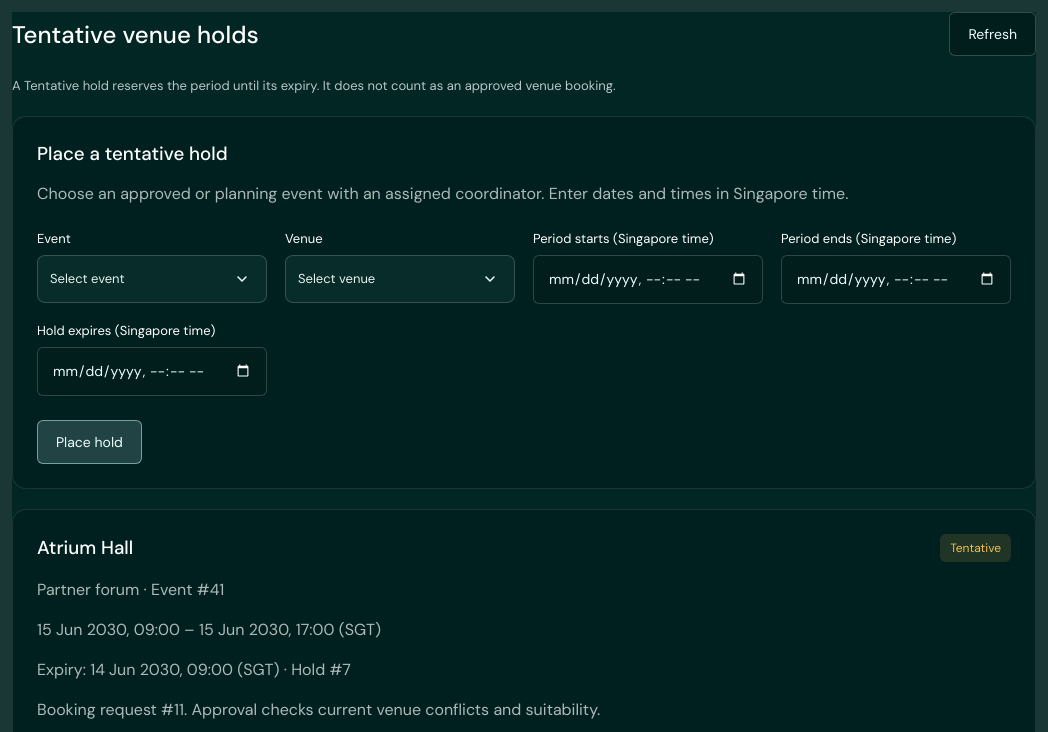
Test: [BOUNDARY] [SG2-84:AC1,AC2] expiry 2030-06-12T09:00 is not in the future
Expected: the text "Partner forum · Event #41" is shown, x1=37 y1=578 x2=224 y2=600
Select "Partner forum · #41" in the dropdown labelled "Event" at (152, 278), box x1=37 y1=254 x2=267 y2=302
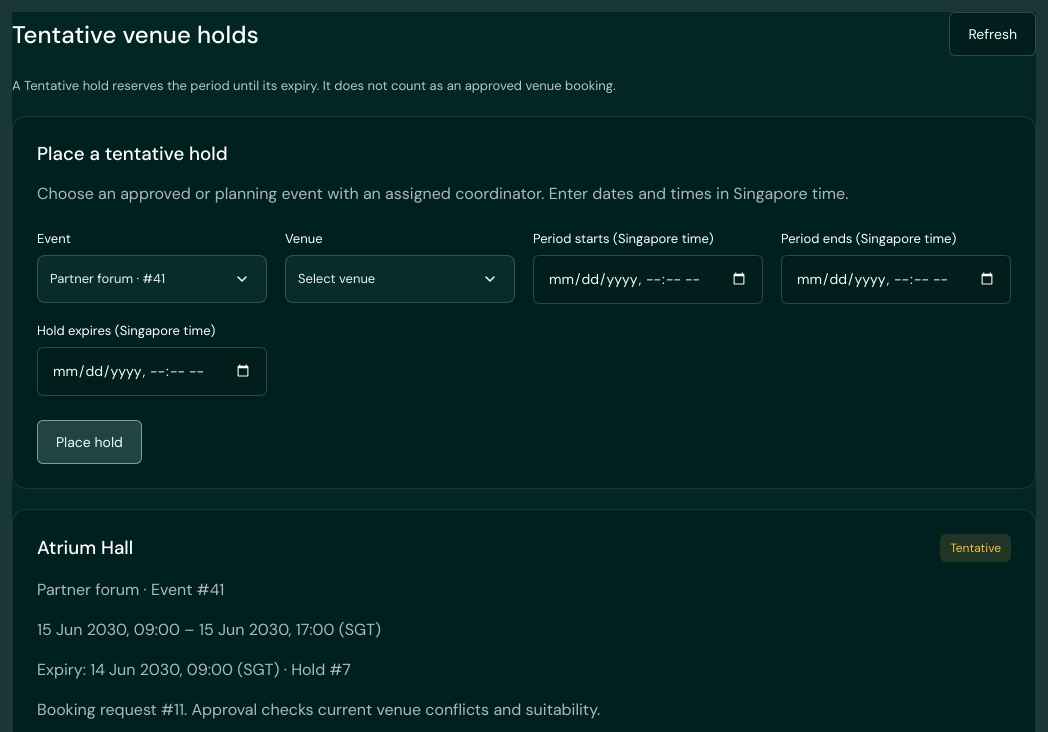
Select "Atrium Hall" in the dropdown labelled "Venue" at (400, 278), box x1=285 y1=254 x2=515 y2=302
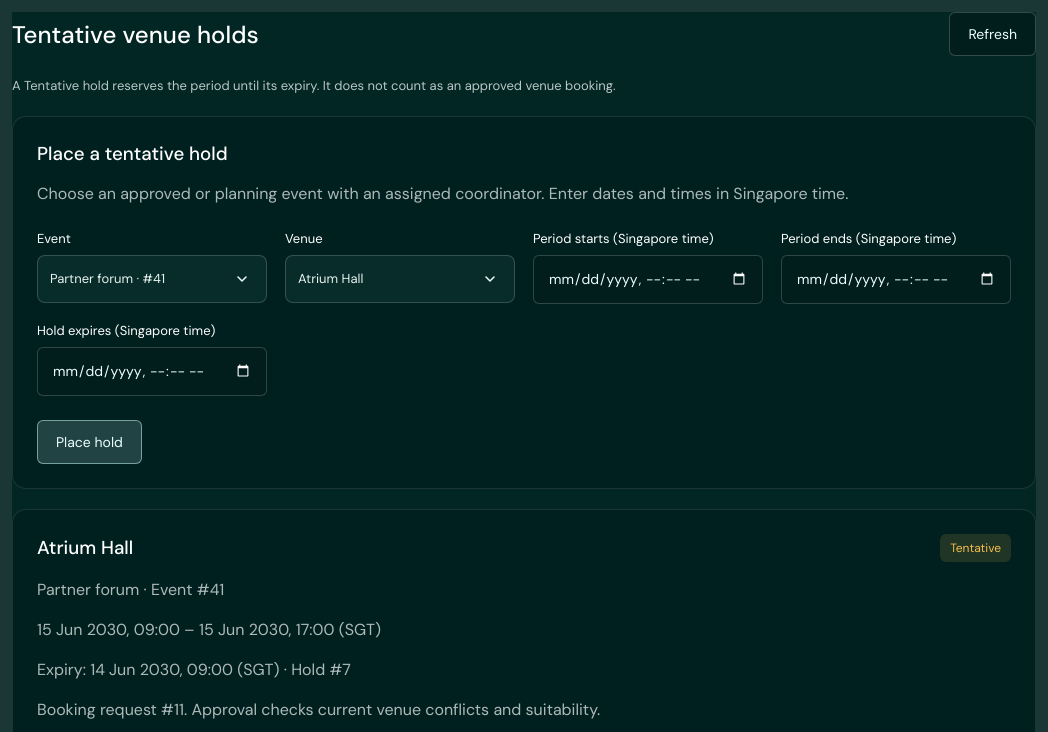
Type "2030-06-15T09:00" into the field labelled "Period starts (Singapore time)" at (648, 279), box x1=533 y1=254 x2=763 y2=304
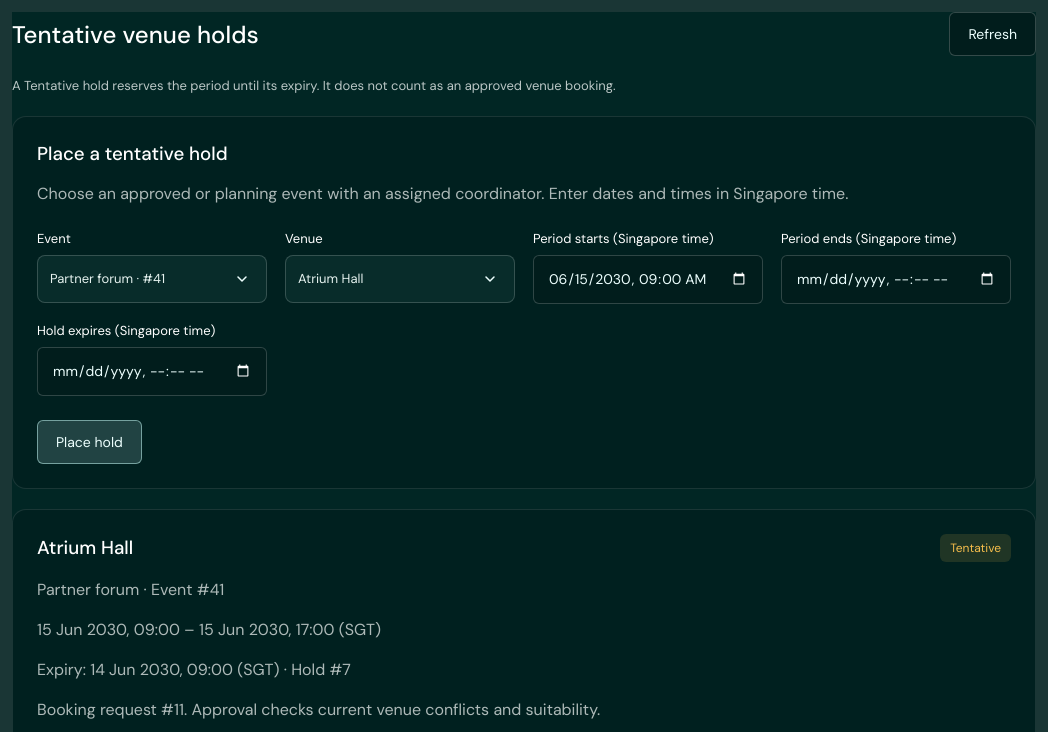
Type "2030-06-15T17:00" into the field labelled "Period ends (Singapore time)" at (896, 279), box x1=781 y1=254 x2=1011 y2=304
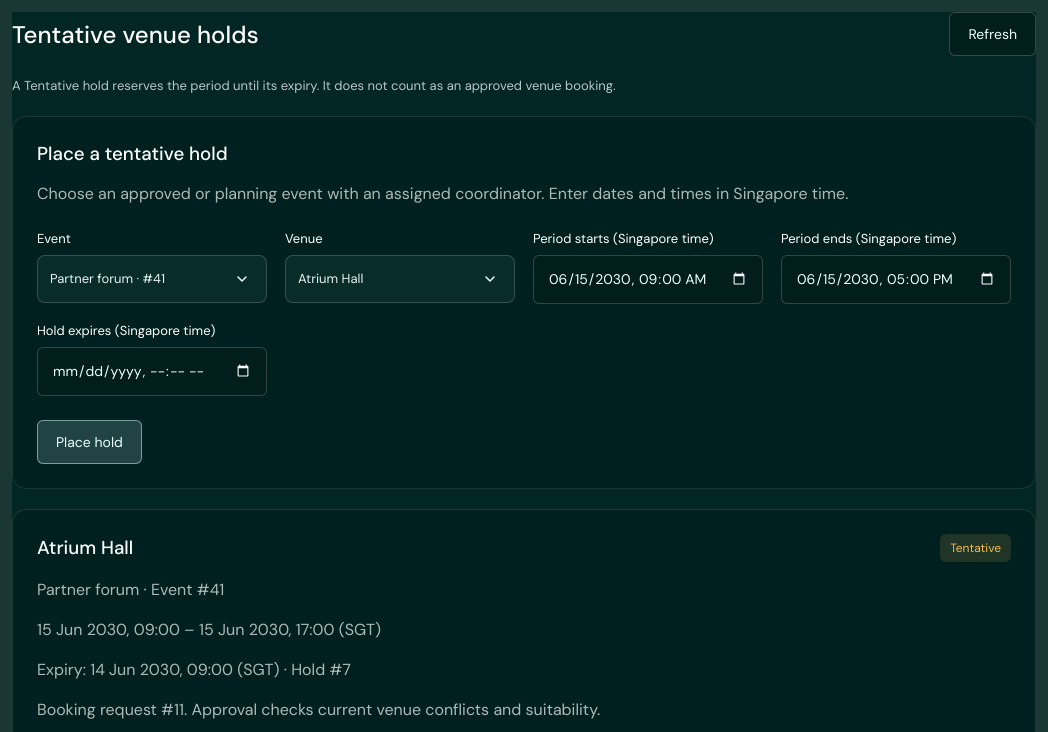
Type "2030-06-12T09:00" into the field labelled "Hold expires (Singapore time)" at (152, 371), box x1=37 y1=346 x2=267 y2=396
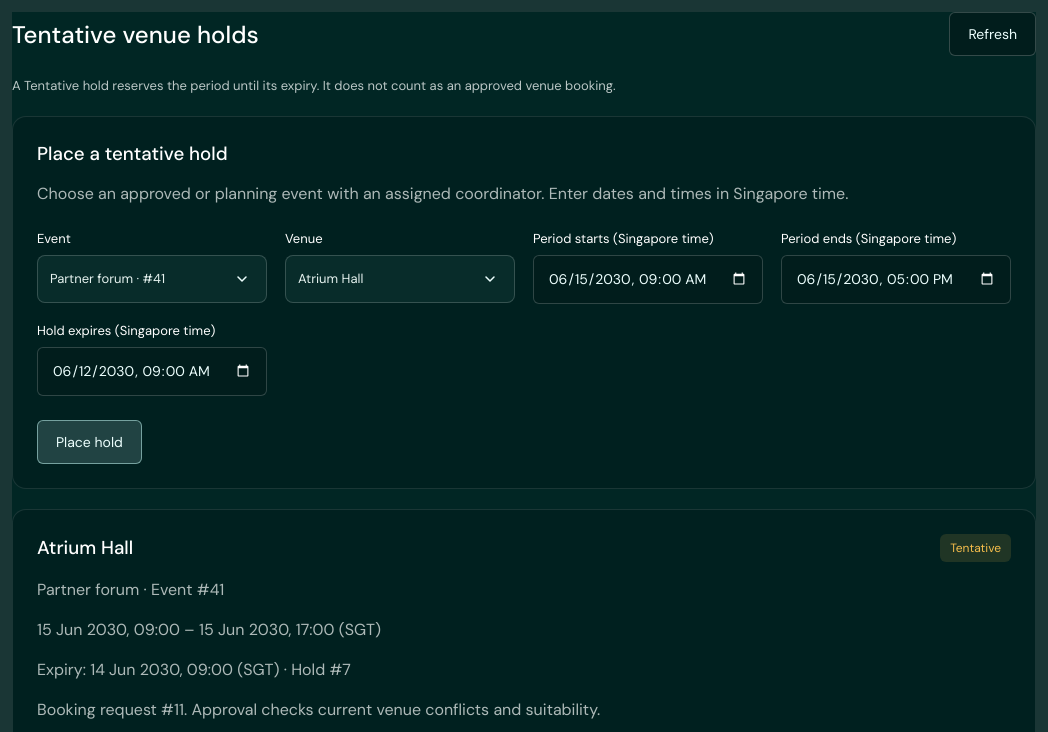
Submit the form "Place a tentative hold", box x1=12 y1=116 x2=1036 y2=488
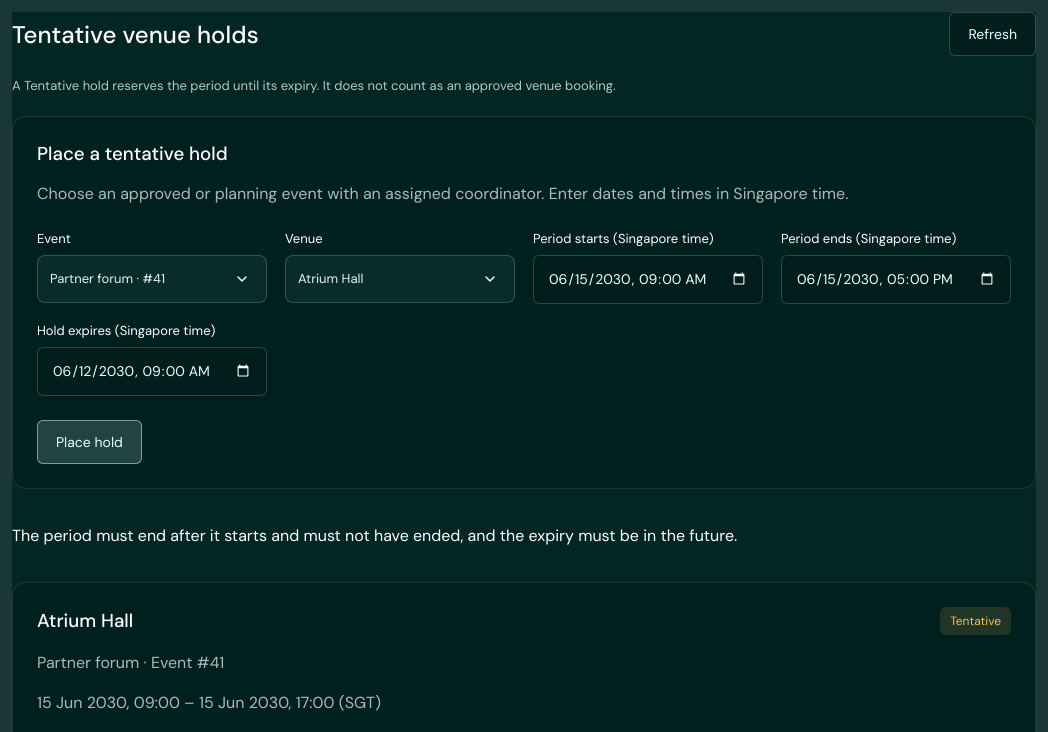
Now the message shows "The period must end after it starts and must not have ended, and the expiry must be in the future.", box x1=12 y1=524 x2=737 y2=546
